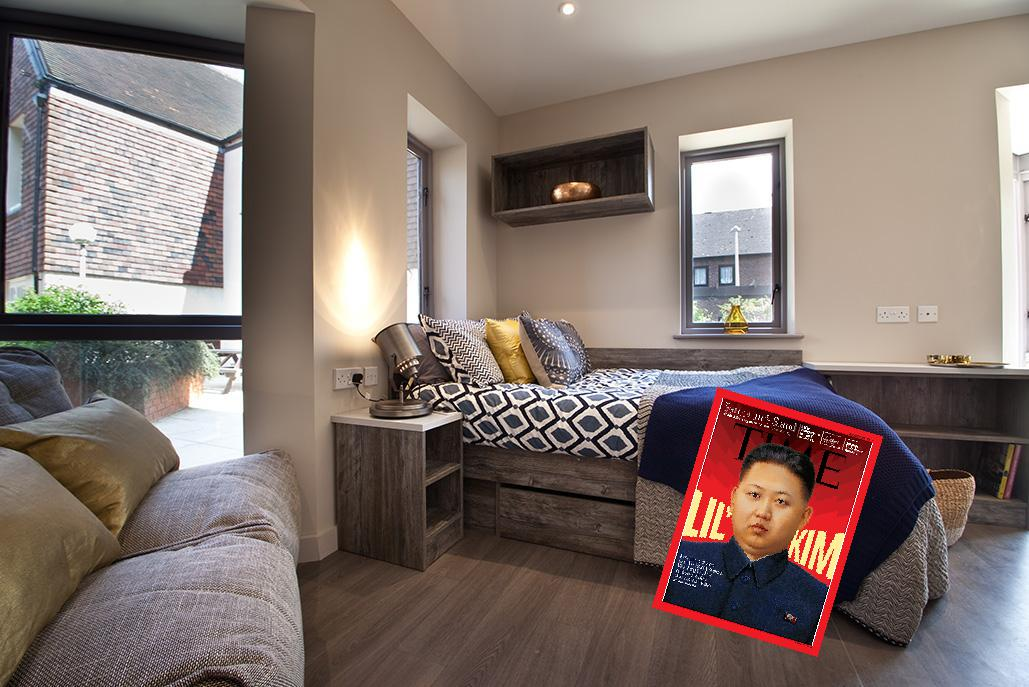times: (652, 381, 883, 661)
